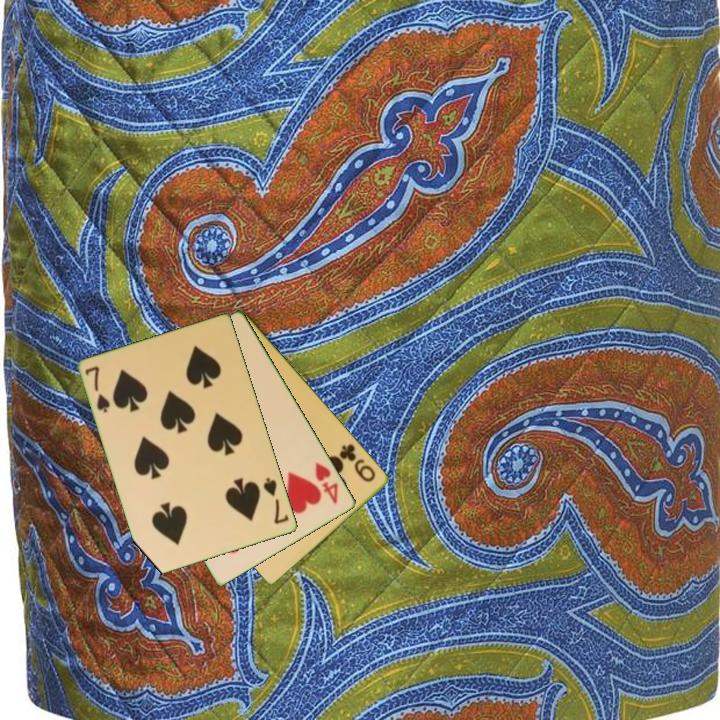4h: (312, 458, 341, 507)
7s: (260, 474, 292, 527), (82, 363, 113, 416)
9c: (336, 440, 379, 485)
